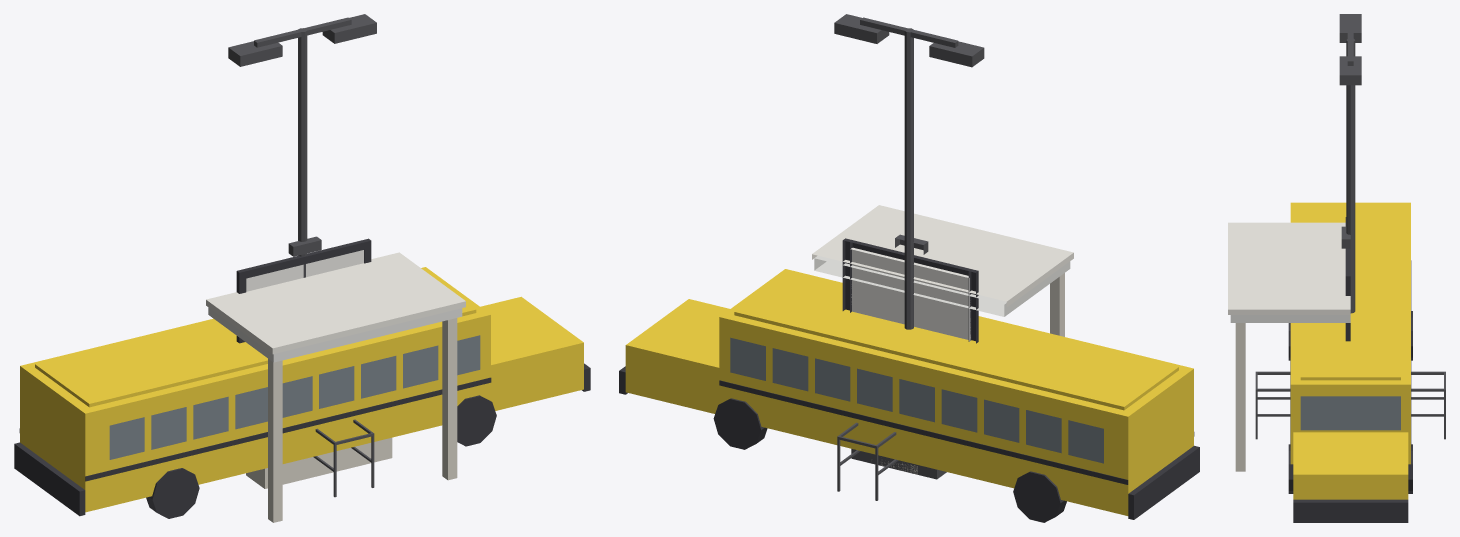
File: places-kit.glb
The picture shows the model from 3 angles, left to right: view 1: azimuth 30°, elevation 25°; view 2: azimuth 150°, elevation 25°; view 3: azimuth 270°, elevation 25°; orthographic projection. The views are drawn at different scales.
Visible parts, largest first — view 1: school-bus, entry-canopy, dock-door, lot-light, cart-corral; view 2: school-bus, entry-canopy, dock-door, lot-light, cart-corral, rtu; view 3: school-bus, entry-canopy, lot-light, cart-corral, dock-door.
Boxes of the visible parts, left/top/right/bottom form: school-bus: left=14, top=267, right=590, bottom=518; entry-canopy: left=206, top=252, right=465, bottom=522; dock-door: left=236, top=236, right=392, bottom=488; lot-light: left=228, top=14, right=376, bottom=277; cart-corral: left=313, top=419, right=374, bottom=497; school-bus: left=619, top=269, right=1199, bottom=522; entry-canopy: left=812, top=205, right=1073, bottom=336; dock-door: left=842, top=234, right=978, bottom=343; lot-light: left=834, top=14, right=984, bottom=329; cart-corral: left=837, top=422, right=898, bottom=500; rtu: left=851, top=449, right=946, bottom=479; school-bus: left=1288, top=202, right=1412, bottom=522; entry-canopy: left=1228, top=222, right=1350, bottom=471; lot-light: left=1339, top=14, right=1361, bottom=313; cart-corral: left=1255, top=371, right=1445, bottom=439; dock-door: left=1341, top=217, right=1350, bottom=341.
Bounding box in the file's own units: 10.86 × 8.6 × 4.35.
